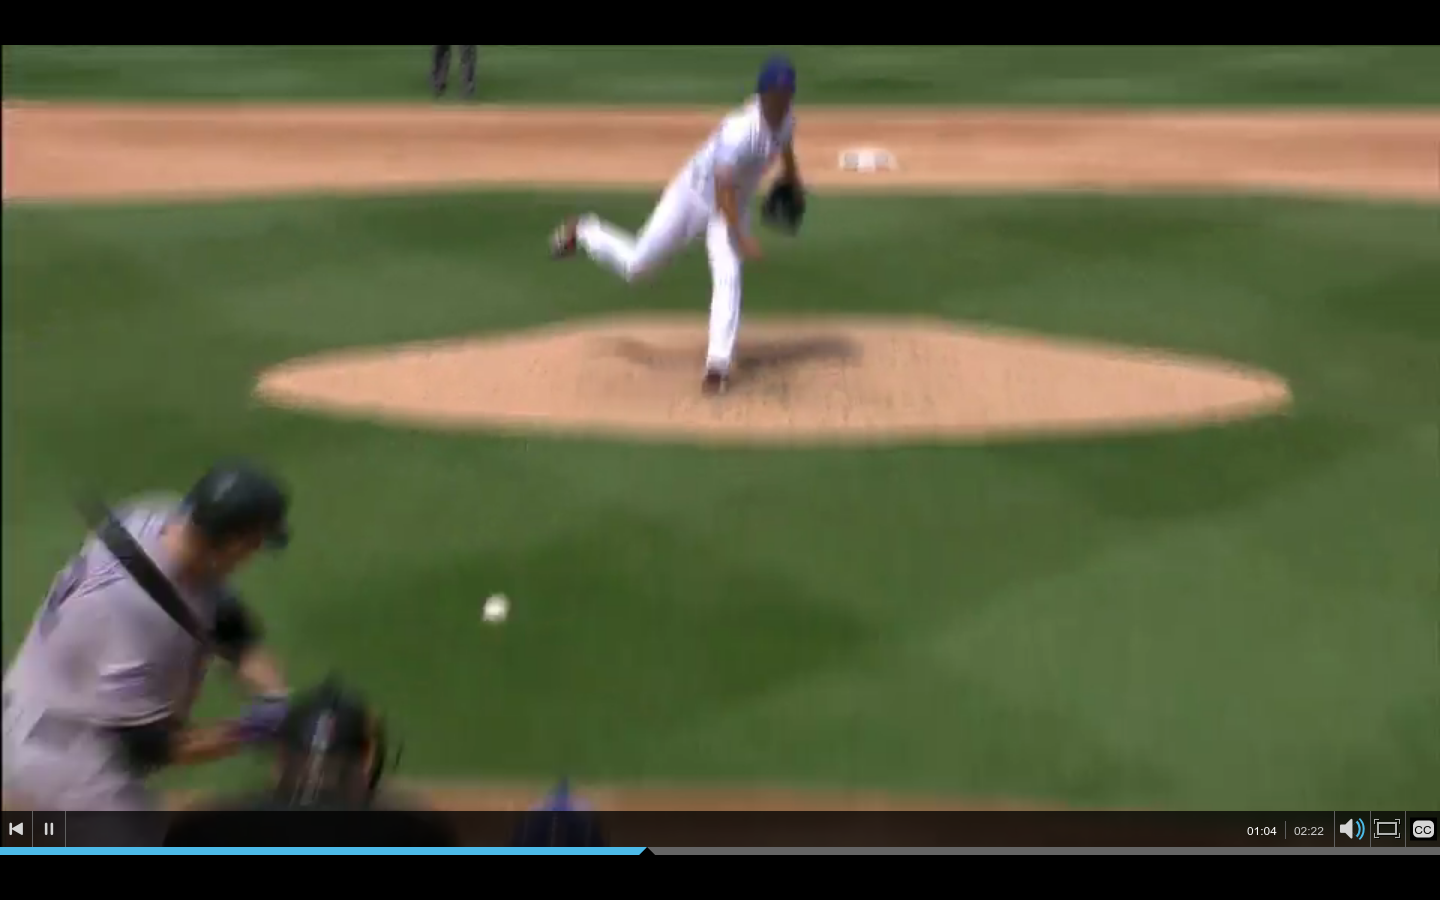baseball: (475, 589, 518, 631)
baseball bat: (82, 494, 236, 662)
baseball player: (4, 466, 307, 809), (536, 54, 810, 399)
